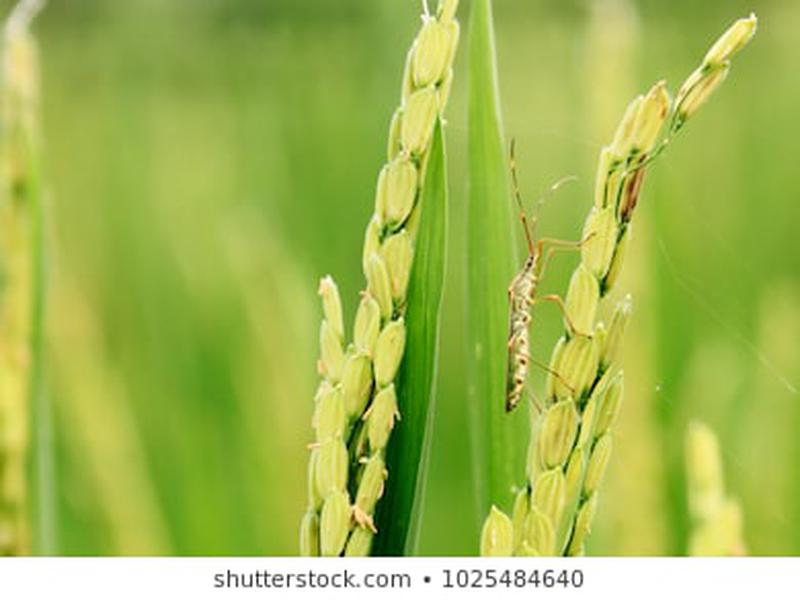Rice_earhead_bug: (462, 212, 592, 478)
